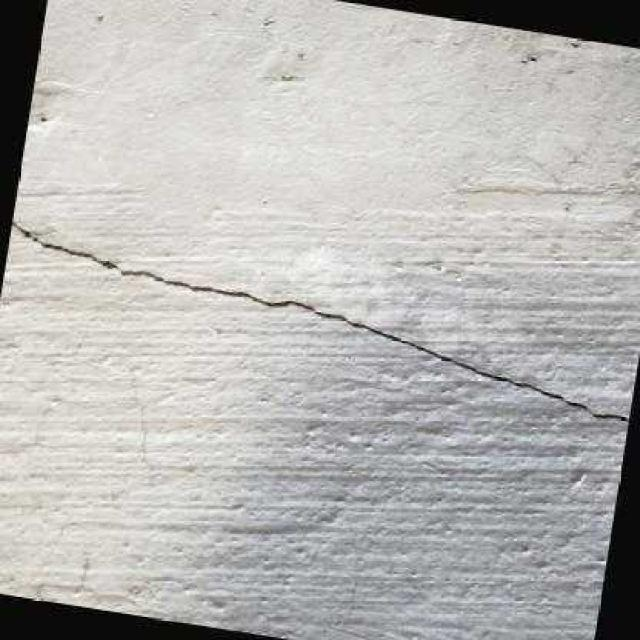D00: (11, 219, 629, 422)
